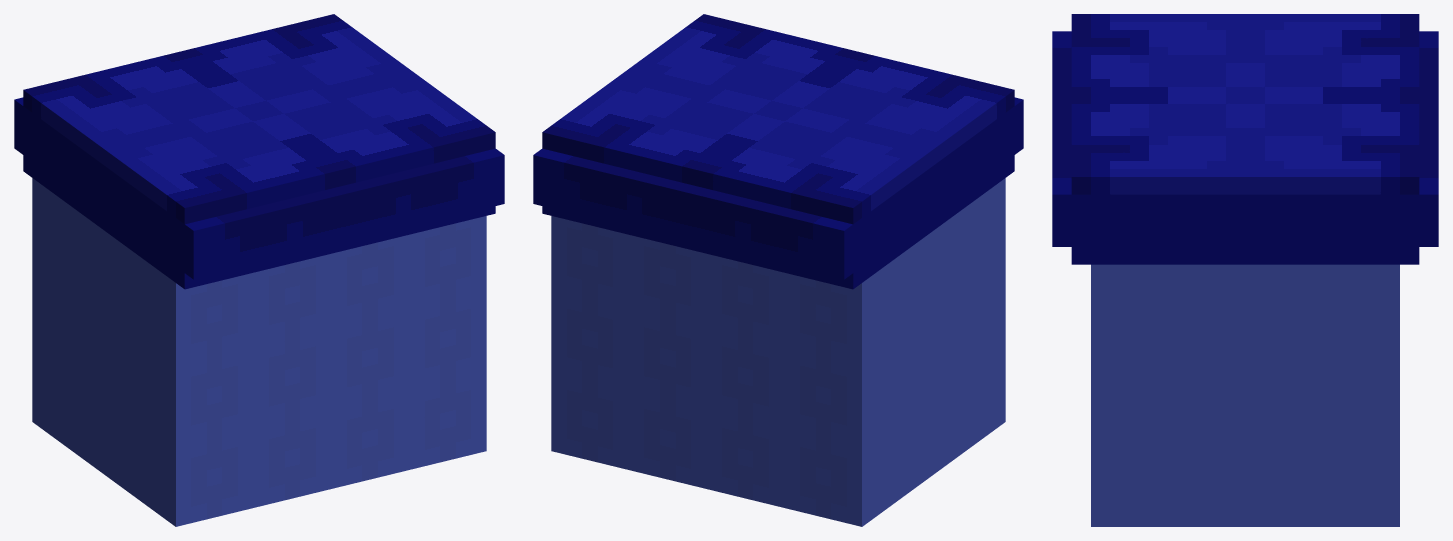
Rendered from full_top_middle2.glb.
3 renders of one model, left to right at view 1: azimuth 30°, elevation 25°; view 2: azimuth 150°, elevation 25°; view 3: azimuth 270°, elevation 25°, orthographic. The views are drawn at different scales.
Visible parts, largest first — view 1: full_top_middle; view 2: full_top_middle; view 3: full_top_middle.
Part boxes in pixels (<box>): full_top_middle: <box>14,14,504,526</box>; full_top_middle: <box>533,14,1023,526</box>; full_top_middle: <box>1052,14,1438,526</box>.
Size of the model in its own units: 2 by 2 by 2.
Materials: 1 (1 with a texture image).
